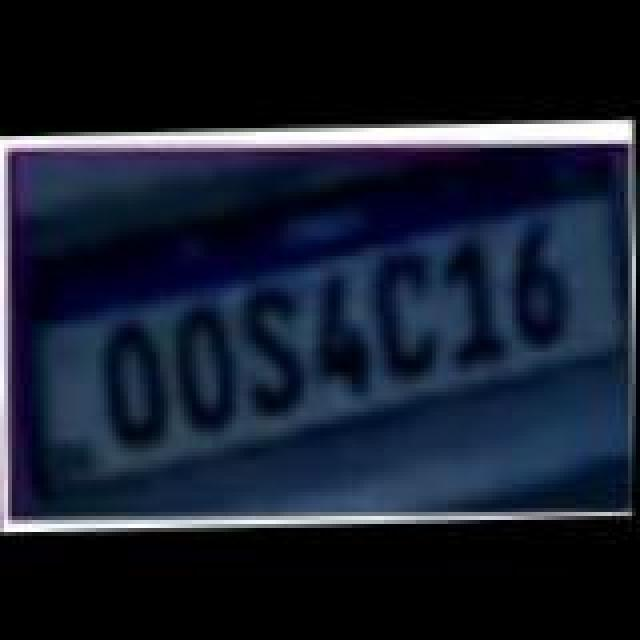1: (444, 228, 508, 364)
4: (312, 268, 376, 392)
6: (510, 214, 574, 346)
C: (372, 244, 444, 376)
O: (170, 298, 242, 434), (102, 316, 174, 448)
S: (242, 284, 314, 420)
